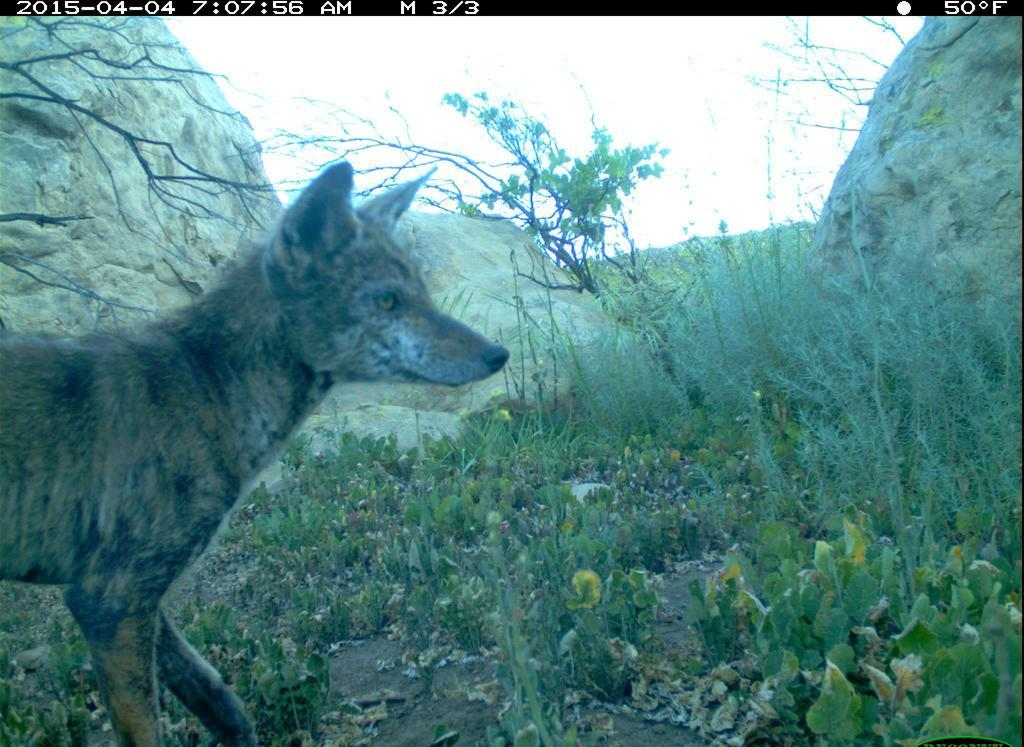coyote: (6, 156, 515, 747)
